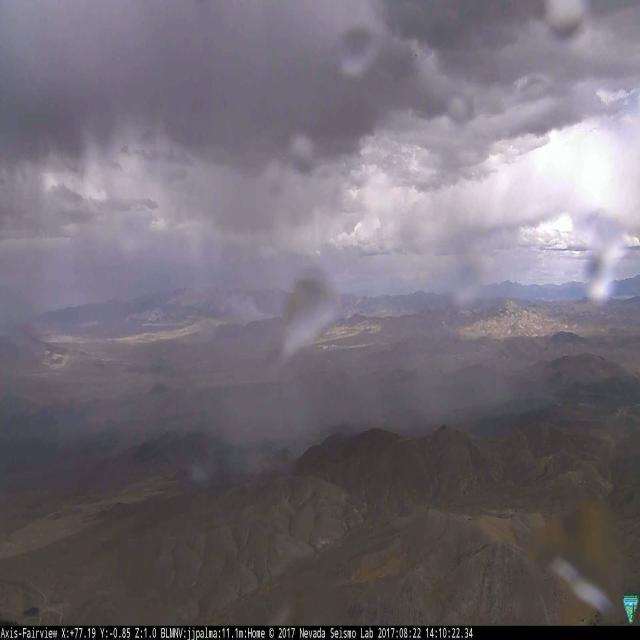smoke: (230, 296, 264, 319)
